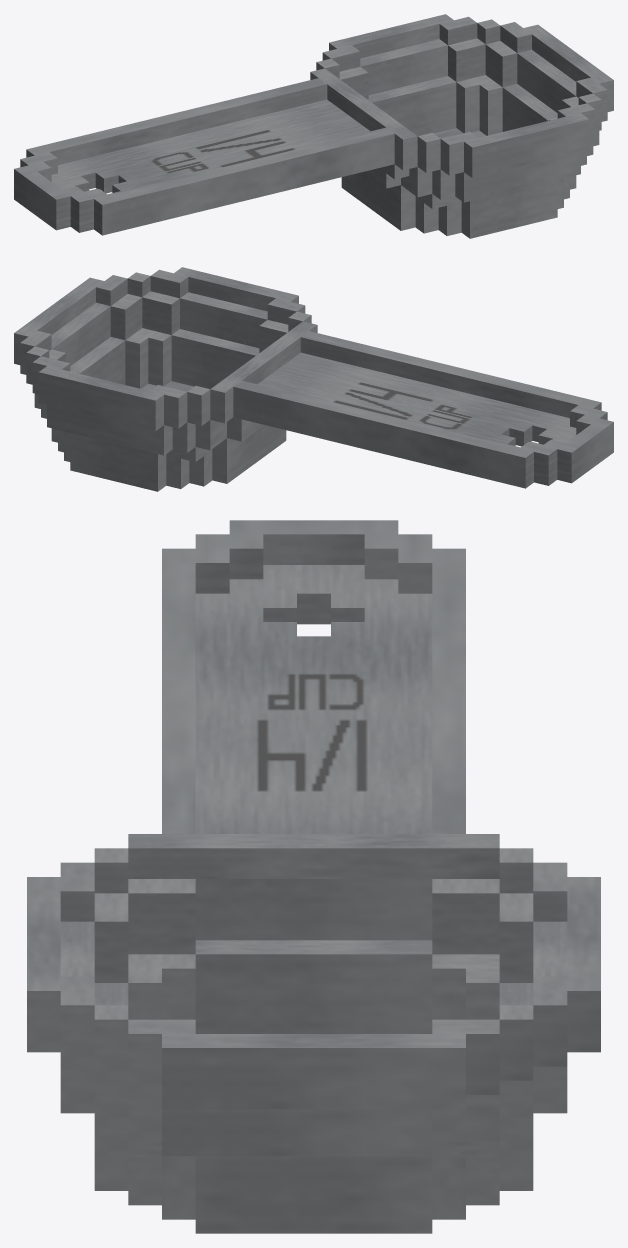
Rendered from Final1_4Cup.fbx.
3 renders of one model, top to bottom at view 1: azimuth 30°, elevation 25°; view 2: azimuth 150°, elevation 25°; view 3: azimuth 270°, elevation 25°, orthographic. The views are drawn at different scales.
Parts seen in each view (by area): view 1: Polygon; view 2: Polygon; view 3: Polygon.
Part boxes in pixels (x1,y1,x2,y2): Polygon: (14, 14, 613, 238); Polygon: (14, 267, 613, 491); Polygon: (27, 520, 600, 1233).
Size of the model in its own units: 3.7 by 0.7 by 1.7.
2 materials, 2 textured.
